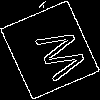W: (25, 25, 89, 87)
